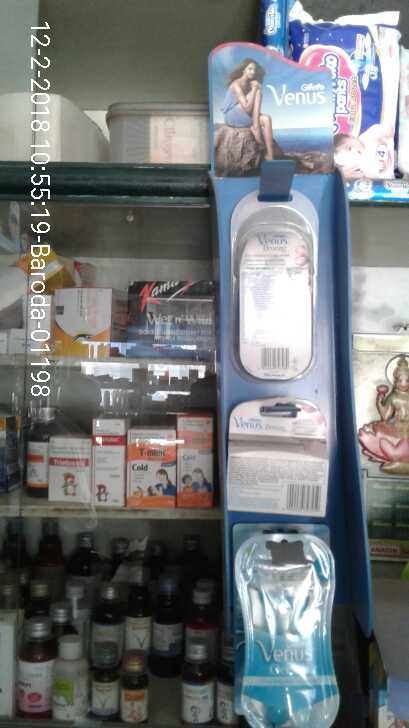beauty: (234, 532, 347, 728)
